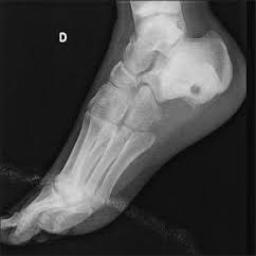cancer: (181, 64, 222, 116)
